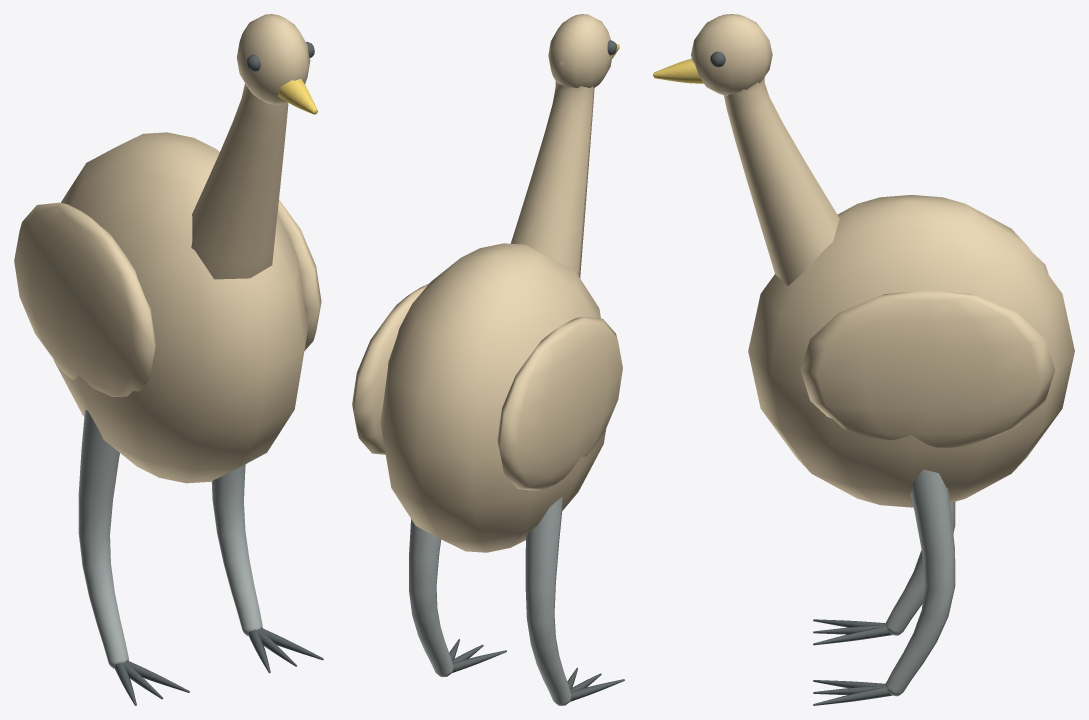
The model's file is outback-and-australian-wildlife-emu-6de65808__5918.glb.
The picture shows the model from 3 angles, left to right: view 1: azimuth 30°, elevation 25°; view 2: azimuth 150°, elevation 25°; view 3: azimuth 270°, elevation 25°; orthographic projection. The views are drawn at different scales.
Visible parts, largest first — view 1: emu; view 2: emu; view 3: emu.
Boxes of the visible parts, bbox=[...] form: emu: bbox=[14, 14, 323, 705]; emu: bbox=[352, 14, 624, 705]; emu: bbox=[653, 14, 1074, 705].
Bounding box in the file's own units: 0.5562 × 1.75 × 1.03.
